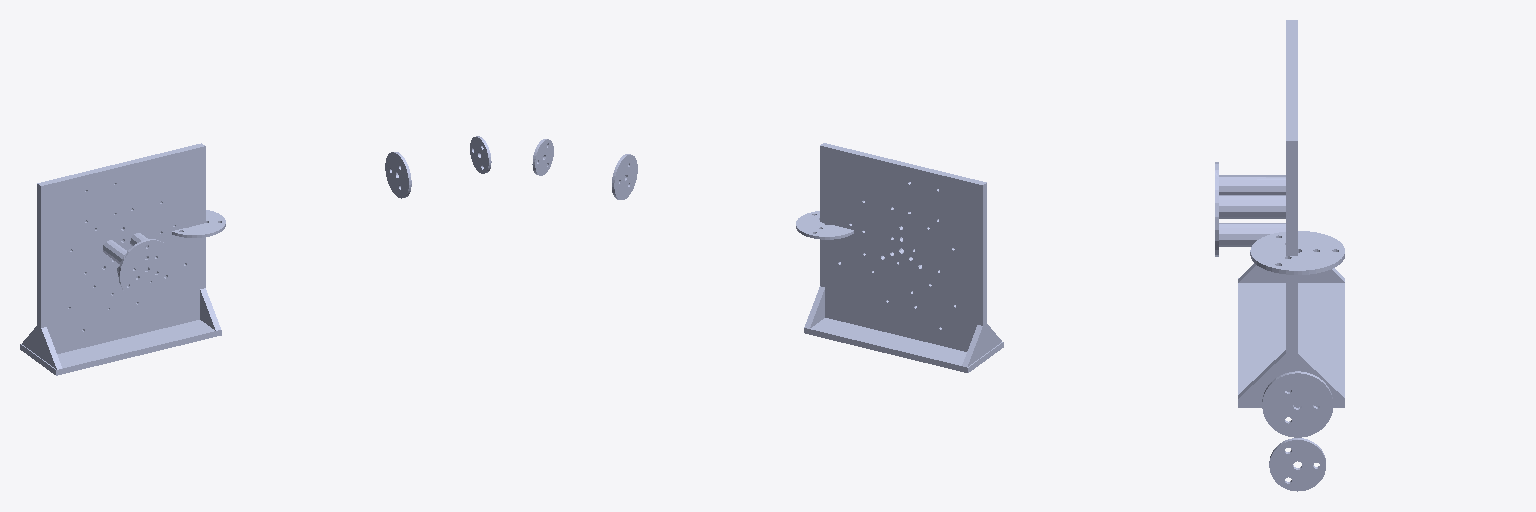
The robot description file, URDF, robot "tail":
<?xml version="1.0" encoding="utf-8"?>
<!-- This URDF was automatically created by SolidWorks to URDF Exporter! Originally created by [author] ([email redacted]) 
     Commit Version:   Build Version: 1.6.9177.32434
     For more information, please see http://wiki.ros.org/sw_urdf_exporter -->
<robot
  name="tail">
  <link
    name="base_link">
    <inertial>
      <origin
        xyz="-0.0246546252283572 -0.0150156534448461 0.00837382744618125"
        rpy="0 0 0" />
      <mass
        value="0.142896121980389" />
      <inertia
        ixx="0.000172848056043176"
        ixy="-2.56147282967753E-07"
        ixz="-9.21158957979319E-09"
        iyy="0.000139660707244487"
        iyz="-2.60840607484691E-06"
        izz="0.000290099857074405" />
    </inertial>
    <visual>
      <origin
        xyz="0 0 0"
        rpy="0 0 0" />
      <geometry>
        <mesh
          filename="package://tail/meshes/base_link.STL" />
      </geometry>
      <material
        name="">
        <color
          rgba="0.792156862745098 0.819607843137255 0.933333333333333 1" />
      </material>
    </visual>
    <collision>
      <origin
        xyz="0 0 0"
        rpy="0 0 0" />
      <geometry>
        <mesh
          filename="package://tail/meshes/base_link.STL" />
      </geometry>
    </collision>
  </link>
  <link
    name="link1-virtual">
  </link>
  <joint
    name="joint1-virtual"
    type="revolute">
    <origin
      xyz="0.0 0 0"
      rpy="0 0 0" />
    <parent
      link="base_link" />
    <child
      link="link1-virtual" />
    <axis
      xyz="0 1 0" />
    <limit
      lower="-0.78539816339"
      upper="0.78539816339"
      effort="30"
      velocity="0.78539816339" />
  </joint>
  <link
    name="link1">
    <inertial>
      <origin
        xyz="2.08166817117217E-17 1.07552855510562E-16 0.001"
        rpy="0 0 0" />
      <mass
        value="0.00240331837999615" />
      <inertia
        ixx="2.45269832602438E-07"
        ixy="5.9311449081908E-22"
        ixz="-7.57306469012188E-27"
        iyy="2.45269832602435E-07"
        iyz="8.83524213847455E-27"
        izz="4.88937452951542E-07" />
    </inertial>
    <visual>
      <origin
        xyz="0 0 0"
        rpy="0 0 0" />
      <geometry>
        <mesh
          filename="package://tail/meshes/link1.STL" />
      </geometry>
      <material
        name="">
        <color
          rgba="0.792156862745098 0.819607843137255 0.933333333333333 1" />
      </material>
    </visual>
    <collision>
      <origin
        xyz="0 0 0"
        rpy="0 0 0" />
      <geometry>
        <mesh
          filename="package://tail/meshes/link1.STL" />
      </geometry>
    </collision>
  </link>
  <joint
    name="joint1"
    type="revolute">
    <origin
      xyz="0.03 0 0"
      rpy="0 0 0" />
    <parent
      link="link1-virtual" />
    <child
      link="link1" />
    <axis
      xyz="0 0 1" />
    <limit
      lower="-0.78539816339"
      upper="0.78539816339"
      effort="30"
      velocity="0.78539816339" />
  </joint>
  <link
    name="link2-virtual">
  </link>
  <joint
    name="joint2-virtual"
    type="revolute">
    <origin
      xyz="0.0 0 0"
      rpy="0 0 0" />
    <parent
      link="link1" />
    <child
      link="link2-virtual" />
    <axis
      xyz="0 1 0" />
    <limit
      lower="-0.78539816339"
      upper="0.78539816339"
      effort="30"
      velocity="0.78539816339" />
  </joint>
  <link
    name="link2">
    <inertial>
      <origin
        xyz="2.08166817117217E-17 1.07552855510562E-16 0.00100000000000001"
        rpy="0 0 0" />
      <mass
        value="0.00240331837999615" />
      <inertia
        ixx="2.45269832602438E-07"
        ixy="5.93316439210817E-22"
        ixz="-7.57306469012188E-27"
        iyy="2.45269832602435E-07"
        iyz="8.83524213847455E-27"
        izz="4.88937452951542E-07" />
    </inertial>
    <visual>
      <origin
        xyz="0 0 0"
        rpy="0 0 0" />
      <geometry>
        <mesh
          filename="package://tail/meshes/link2.STL" />
      </geometry>
      <material
        name="">
        <color
          rgba="0.792156862745098 0.819607843137255 0.933333333333333 1" />
      </material>
    </visual>
    <collision>
      <origin
        xyz="0 0 0"
        rpy="0 0 0" />
      <geometry>
        <mesh
          filename="package://tail/meshes/link2.STL" />
      </geometry>
    </collision>
  </link>
  <joint
    name="joint2"
    type="revolute">
    <origin
      xyz="0.03 0 0"
      rpy="0 0 0" />
    <parent
      link="link2-virtual" />
    <child
      link="link2" />
    <axis
      xyz="0 0 1" />
    <limit
      lower="-0.78539816339"
      upper="0.78539816339"
      effort="30"
      velocity="0.78539816339" />
  </joint>
  <link
    name="link3-virtual">
  </link>
  <joint
    name="joint3-virtual"
    type="revolute">
    <origin
      xyz="0.0 0 0"
      rpy="0 0 0" />
    <parent
      link="link2" />
    <child
      link="link3-virtual" />
    <axis
      xyz="0 1 0" />
    <limit
      lower="-0.78539816339"
      upper="0.78539816339"
      effort="30"
      velocity="0.78539816339" />
  </joint>
  <link
    name="link3">
    <inertial>
      <origin
        xyz="2.08166817117217E-17 1.0842021724855E-16 0.000999999999999987"
        rpy="0 0 0" />
      <mass
        value="0.00240331837999613" />
      <inertia
        ixx="2.45269832602436E-07"
        ixy="5.92811568231475E-22"
        ixz="-1.48305850177636E-26"
        iyy="2.45269832602433E-07"
        iyz="-1.27795466627806E-26"
        izz="4.88937452951538E-07" />
    </inertial>
    <visual>
      <origin
        xyz="0 0 0"
        rpy="0 0 0" />
      <geometry>
        <mesh
          filename="package://tail/meshes/link3.STL" />
      </geometry>
      <material
        name="">
        <color
          rgba="0.792156862745098 0.819607843137255 0.933333333333333 1" />
      </material>
    </visual>
    <collision>
      <origin
        xyz="0 0 0"
        rpy="0 0 0" />
      <geometry>
        <mesh
          filename="package://tail/meshes/link3.STL" />
      </geometry>
    </collision>
  </link>
  <joint
    name="joint3"
    type="revolute">
    <origin
      xyz="0.03 0 0"
      rpy="0 0 0" />
    <parent
      link="link3-virtual" />
    <child
      link="link3" />
    <axis
      xyz="0 0 1" />
    <limit
      lower="-0.78539816339"
      upper="0.78539816339"
      effort="30"
      velocity="0.78539816339" />
  </joint>
  <link
    name="link4-virtual">
  </link>
  <joint
    name="joint4-virtual"
    type="revolute">
    <origin
      xyz="0.0 0 0"
      rpy="0 0 0" />
    <parent
      link="link3" />
    <child
      link="link4-virtual" />
    <axis
      xyz="0 1 0" />
    <limit
      lower="-0.78539816339"
      upper="0.78539816339"
      effort="30"
      velocity="0.78539816339" />
  </joint>
  <link
    name="link4">
    <inertial>
      <origin
        xyz="2.08166817117217E-17 1.07552855510562E-16 0.001"
        rpy="0 0 0" />
      <mass
        value="0.00240331837999615" />
      <inertia
        ixx="2.45269832602438E-07"
        ixy="5.9311449081908E-22"
        ixz="-7.57306469012188E-27"
        iyy="2.45269832602435E-07"
        iyz="8.83524213847455E-27"
        izz="4.88937452951542E-07" />
    </inertial>
    <visual>
      <origin
        xyz="0 0 0"
        rpy="0 0 0" />
      <geometry>
        <mesh
          filename="package://tail/meshes/link4.STL" />
      </geometry>
      <material
        name="">
        <color
          rgba="0.792156862745098 0.819607843137255 0.933333333333333 1" />
      </material>
    </visual>
    <collision>
      <origin
        xyz="0 0 0"
        rpy="0 0 0" />
      <geometry>
        <mesh
          filename="package://tail/meshes/link4.STL" />
      </geometry>
    </collision>
  </link>
  <joint
    name="joint4"
    type="revolute">
    <origin
      xyz="0.03 0 0"
      rpy="0 0 0" />
    <parent
      link="link4-virtual" />
    <child
      link="link4" />
    <axis
      xyz="0 0 1" />
    <limit
      lower="-0.78539816339"
      upper="0.78539816339"
      effort="30"
      velocity="0.78539816339" />
  </joint>
  <link
    name="link5-virtual">
  </link>
  <joint
    name="joint5-virtual"
    type="revolute">
    <origin
      xyz="0.0 0 0"
      rpy="0 0 0" />
    <parent
      link="link4" />
    <child
      link="link5-virtual" />
    <axis
      xyz="0 1 0" />
    <limit
      lower="-0.78539816339"
      upper="0.78539816339"
      effort="30"
      velocity="0.78539816339" />
  </joint>
  <link
    name="link5">
    <inertial>
      <origin
        xyz="-0.001 5.98479599211998E-17 -6.93889390390723E-18"
        rpy="0 0 0" />
      <mass
        value="0.00134617245206321" />
      <inertia
        ixx="1.56230813614397E-07"
        ixy="3.786532345048E-27"
        ixz="7.57306469012369E-27"
        iyy="7.85641309578857E-08"
        iyz="-1.06426802445178E-22"
        izz="7.85641309578864E-08" />
    </inertial>
    <visual>
      <origin
        xyz="0 0 0"
        rpy="0 0 0" />
      <geometry>
        <mesh
          filename="package://tail/meshes/link5.STL" />
      </geometry>
      <material
        name="">
        <color
          rgba="0.792156862745098 0.819607843137255 0.933333333333333 1" />
      </material>
    </visual>
    <collision>
      <origin
        xyz="0 0 0"
        rpy="0 0 0" />
      <geometry>
        <mesh
          filename="package://tail/meshes/link5.STL" />
      </geometry>
    </collision>
  </link>
  <joint
    name="joint5"
    type="revolute">
    <origin
      xyz="0.03 0 0"
      rpy="0 0 0" />
    <parent
      link="link5-virtual" />
    <child
      link="link5" />
    <axis
      xyz="0 0 1" />
    <limit
      lower="-0.78539816339"
      upper="0.78539816339"
      effort="30"
      velocity="0.78539816339" />
  </joint>
  <link
    name="link6-virtual">
  </link>
  <joint
    name="joint6-virtual"
    type="revolute">
    <origin
      xyz="0.0 0 0"
      rpy="0 0 0" />
    <parent
      link="link5" />
    <child
      link="link6-virtual" />
    <axis
      xyz="0 1 0" />
    <limit
      lower="-0.78539816339"
      upper="0.78539816339"
      effort="30"
      velocity="0.78539816339" />
  </joint>
  <link
    name="link6">
    <inertial>
      <origin
        xyz="-0.000999999999999973 5.98479599211998E-17 -6.93889390390723E-18"
        rpy="0 0 0" />
      <mass
        value="0.00134617245206321" />
      <inertia
        ixx="1.56230813614397E-07"
        ixy="3.786532345048E-27"
        ixz="7.57306469012369E-27"
        iyy="7.85641309578857E-08"
        iyz="-1.06426802445178E-22"
        izz="7.85641309578864E-08" />
    </inertial>
    <visual>
      <origin
        xyz="0 0 0"
        rpy="0 0 0" />
      <geometry>
        <mesh
          filename="package://tail/meshes/link6.STL" />
      </geometry>
      <material
        name="">
        <color
          rgba="0.792156862745098 0.819607843137255 0.933333333333333 1" />
      </material>
    </visual>
    <collision>
      <origin
        xyz="0 0 0"
        rpy="0 0 0" />
      <geometry>
        <mesh
          filename="package://tail/meshes/link6.STL" />
      </geometry>
    </collision>
  </link>
  <joint
    name="joint6"
    type="revolute">
    <origin
      xyz="0.03 0 0"
      rpy="0 0 0" />
    <parent
      link="link6-virtual" />
    <child
      link="link6" />
    <axis
      xyz="0 0 1" />
    <limit
      lower="-0.78539816339"
      upper="0.78539816339"
      effort="30"
      velocity="0.78539816339" />
  </joint>
  <link
    name="link7-virtual">
  </link>
  <joint
    name="joint7-virtual"
    type="revolute">
    <origin
      xyz="0.0 0 0"
      rpy="0 0 0" />
    <parent
      link="link6" />
    <child
      link="link7-virtual" />
    <axis
      xyz="0 1 0" />
    <limit
      lower="-0.78539816339"
      upper="0.78539816339"
      effort="30"
      velocity="0.78539816339" />
  </joint>
  <link
    name="link7">
    <inertial>
      <origin
        xyz="-0.001 9.80118763926896E-17 -1.73472347597681E-17"
        rpy="0 0 0" />
      <mass
        value="0.00083723444218166" />
      <inertia
        ixx="6.23317507912513E-08"
        ixy="3.78653234505031E-27"
        ixz="7.57306469012324E-27"
        iyy="3.14449535430192E-08"
        iyz="-1.06376315347244E-22"
        izz="3.14449535430199E-08" />
    </inertial>
    <visual>
      <origin
        xyz="0 0 0"
        rpy="0 0 0" />
      <geometry>
        <mesh
          filename="package://tail/meshes/link7.STL" />
      </geometry>
      <material
        name="">
        <color
          rgba="0.792156862745098 0.819607843137255 0.933333333333333 1" />
      </material>
    </visual>
    <collision>
      <origin
        xyz="0 0 0"
        rpy="0 0 0" />
      <geometry>
        <mesh
          filename="package://tail/meshes/link7.STL" />
      </geometry>
    </collision>
  </link>
  <joint
    name="joint7"
    type="revolute">
    <origin
      xyz="0.03 0 0"
      rpy="0 0 0" />
    <parent
      link="link7-virtual" />
    <child
      link="link7" />
    <axis
      xyz="0 0 1" />
    <limit
      lower="-0.78539816339"
      upper="0.78539816339"
      effort="30"
      velocity="0.78539816339" />
  </joint>
  <link
    name="link8-virtual">
  </link>
  <joint
    name="joint8-virtual"
    type="revolute">
    <origin
      xyz="0.0 0 0"
      rpy="0 0 0" />
    <parent
      link="link7" />
    <child
      link="link8-virtual" />
    <axis
      xyz="0 1 0" />
    <limit
      lower="-0.78539816339"
      upper="0.78539816339"
      effort="30"
      velocity="0.78539816339" />
  </joint>
  <link
    name="link8">
    <inertial>
      <origin
        xyz="-0.001 9.80118763926896E-17 -1.73472347597681E-17"
        rpy="0 0 0" />
      <mass
        value="0.00083723444218166" />
      <inertia
        ixx="6.23317507912513E-08"
        ixy="3.78653234505015E-27"
        ixz="7.57306469012327E-27"
        iyy="3.14449535430192E-08"
        iyz="-1.06376315347244E-22"
        izz="3.14449535430199E-08" />
    </inertial>
    <visual>
      <origin
        xyz="0 0 0"
        rpy="0 0 0" />
      <geometry>
        <mesh
          filename="package://tail/meshes/link8.STL" />
      </geometry>
      <material
        name="">
        <color
          rgba="0.792156862745098 0.819607843137255 0.933333333333333 1" />
      </material>
    </visual>
    <collision>
      <origin
        xyz="0 0 0"
        rpy="0 0 0" />
      <geometry>
        <mesh
          filename="package://tail/meshes/link8.STL" />
      </geometry>
    </collision>
  </link>
  <joint
    name="joint8"
    type="revolute">
    <origin
      xyz="0.03 0 0"
      rpy="0 0 0" />
    <parent
      link="link8-virtual" />
    <child
      link="link8" />
    <axis
      xyz="0 0 1" />
    <limit
      lower="-0.78539816339"
      upper="0.78539816339"
      effort="30"
      velocity="0.78539816339" />
  </joint>
  <link
    name="link9-virtual">
  </link>
  <joint
    name="joint9-virtual"
    type="revolute">
    <origin
      xyz="0.0 0 0"
      rpy="0 0 0" />
    <parent
      link="link8" />
    <child
      link="link9-virtual" />
    <axis
      xyz="0 1 0" />
    <limit
      lower="-0.78539816339"
      upper="0.78539816339"
      effort="30"
      velocity="0.78539816339" />
  </joint>
  <link
    name="link9">
    <inertial>
      <origin
        xyz="-0.000999999999999945 9.80118763926896E-17 -1.73472347597681E-17"
        rpy="0 0 0" />
      <mass
        value="0.00083723444218166" />
      <inertia
        ixx="6.23317507912513E-08"
        ixy="3.78653234505015E-27"
        ixz="7.57306469012327E-27"
        iyy="3.14449535430192E-08"
        iyz="-1.06376315347244E-22"
        izz="3.14449535430199E-08" />
    </inertial>
    <visual>
      <origin
        xyz="0 0 0"
        rpy="0 0 0" />
      <geometry>
        <mesh
          filename="package://tail/meshes/link9.STL" />
      </geometry>
      <material
        name="">
        <color
          rgba="0.792156862745098 0.819607843137255 0.933333333333333 1" />
      </material>
    </visual>
    <collision>
      <origin
        xyz="0 0 0"
        rpy="0 0 0" />
      <geometry>
        <mesh
          filename="package://tail/meshes/link9.STL" />
      </geometry>
    </collision>
  </link>
  <joint
    name="joint9"
    type="revolute">
    <origin
      xyz="0.03 0 0"
      rpy="0 0 0" />
    <parent
      link="link9-virtual" />
    <child
      link="link9" />
    <axis
      xyz="0 0 1" />
    <limit
      lower="-0.78539816339"
      upper="0.78539816339"
      effort="30"
      velocity="0.78539816339" />
  </joint>
</robot>

--- Render facts (derived) ---
Views: 3 orthographic renders of the robot side by side, from view 1: azimuth 30°, elevation 25°; view 2: azimuth 150°, elevation 25°; view 3: azimuth 270°, elevation 25°.
Model tail with 19 links and 18 joints (18 revolute), rooted at base_link, posed every joint at zero.
Links seen in each view (by area): view 1: base_link, link6, link1, link8; view 2: base_link, link1, link6, link8; view 3: base_link, link6, link1, link8.
Link boxes in pixels (box(x1,y1,x2,y2)): base_link: box(20, 143, 221, 375); link6: box(385, 152, 411, 198); link1: box(172, 210, 225, 237); link8: box(470, 136, 491, 173); base_link: box(804, 143, 1003, 372); link1: box(796, 211, 853, 239); link6: box(612, 154, 637, 199); link8: box(532, 139, 553, 175); base_link: box(1215, 20, 1344, 407); link6: box(1262, 371, 1332, 437); link1: box(1250, 231, 1344, 274); link8: box(1269, 438, 1325, 491).
Bounding box of the posed robot: 0.3253 × 0.055 × 0.124 m (x, y, z).
Meshes: 10 distinct files referenced, 4 mesh visuals loaded (4 binary STL); not drawn: 6 (reference not matched to a file when rendering).